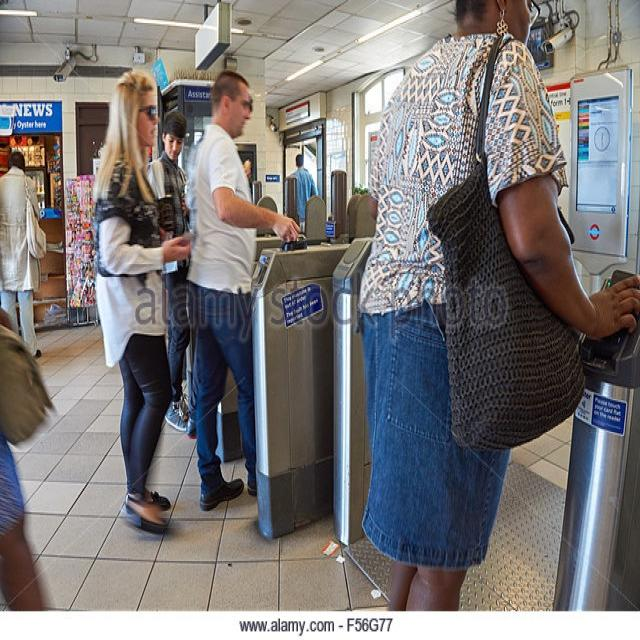body: (345, 0, 639, 639), (184, 67, 302, 514), (87, 68, 196, 536), (0, 286, 93, 618), (144, 106, 192, 436), (0, 149, 48, 362), (289, 152, 320, 235)
